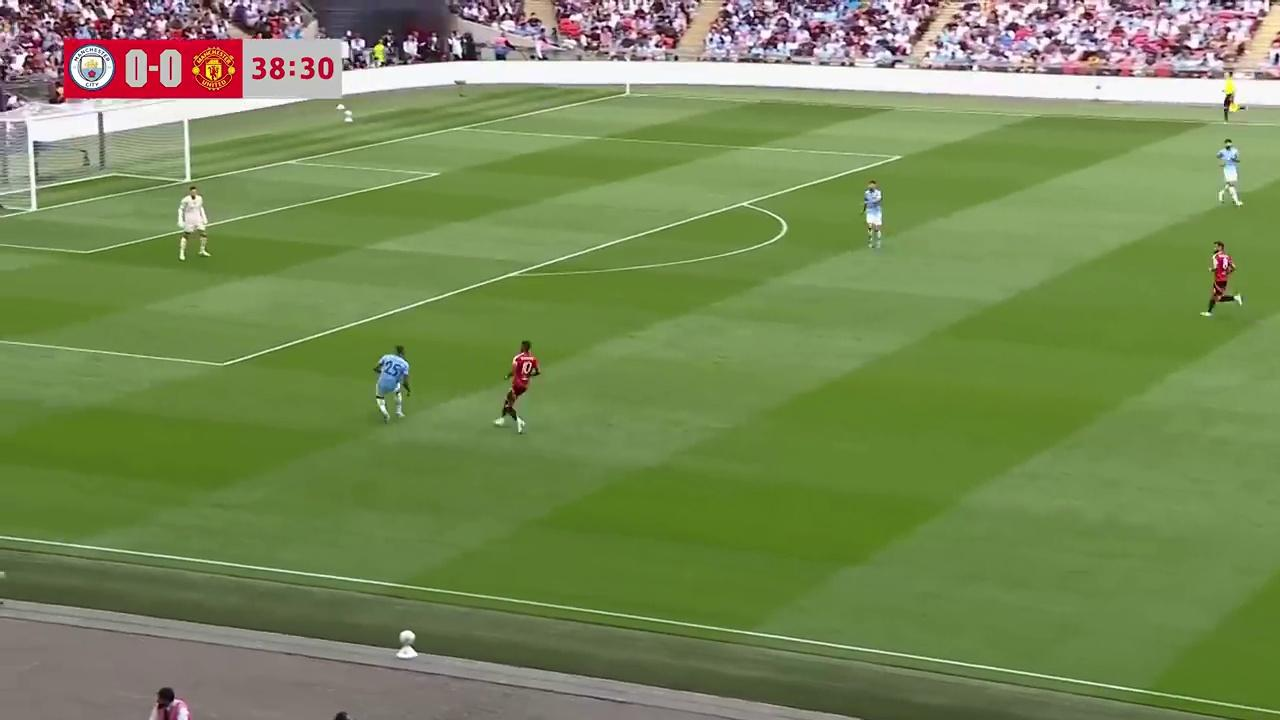player: (493, 341, 540, 433), (1202, 241, 1242, 317), (374, 345, 411, 420), (177, 186, 210, 260), (1216, 138, 1242, 206), (862, 180, 883, 250)
referee: (1221, 72, 1240, 124)
